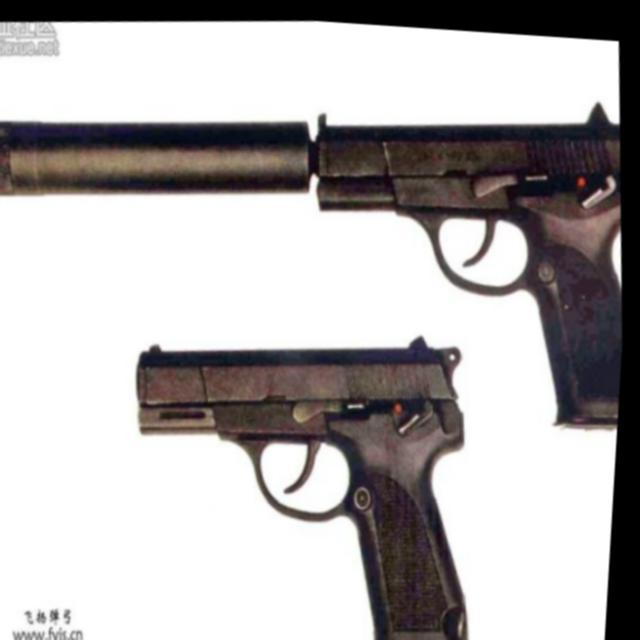weapon: (0, 58, 637, 464), (123, 308, 492, 640)
